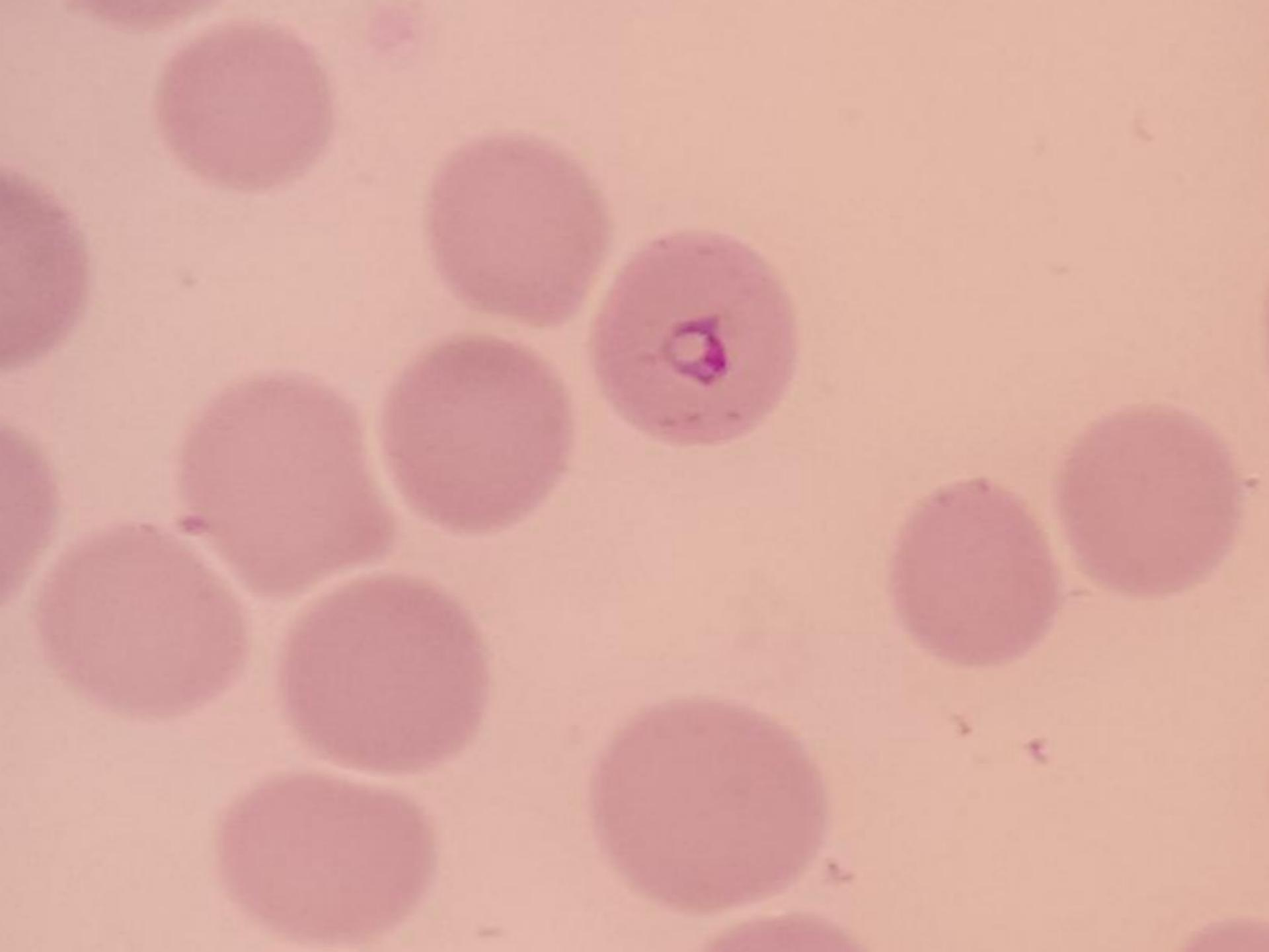Infected: (592, 235, 797, 446)
Uninfected: (595, 696, 827, 916), (180, 372, 398, 596), (281, 577, 489, 767), (40, 526, 249, 714), (382, 337, 570, 529), (218, 770, 434, 933), (430, 134, 612, 326), (1061, 403, 1243, 594), (155, 20, 329, 195), (889, 483, 1055, 665)
